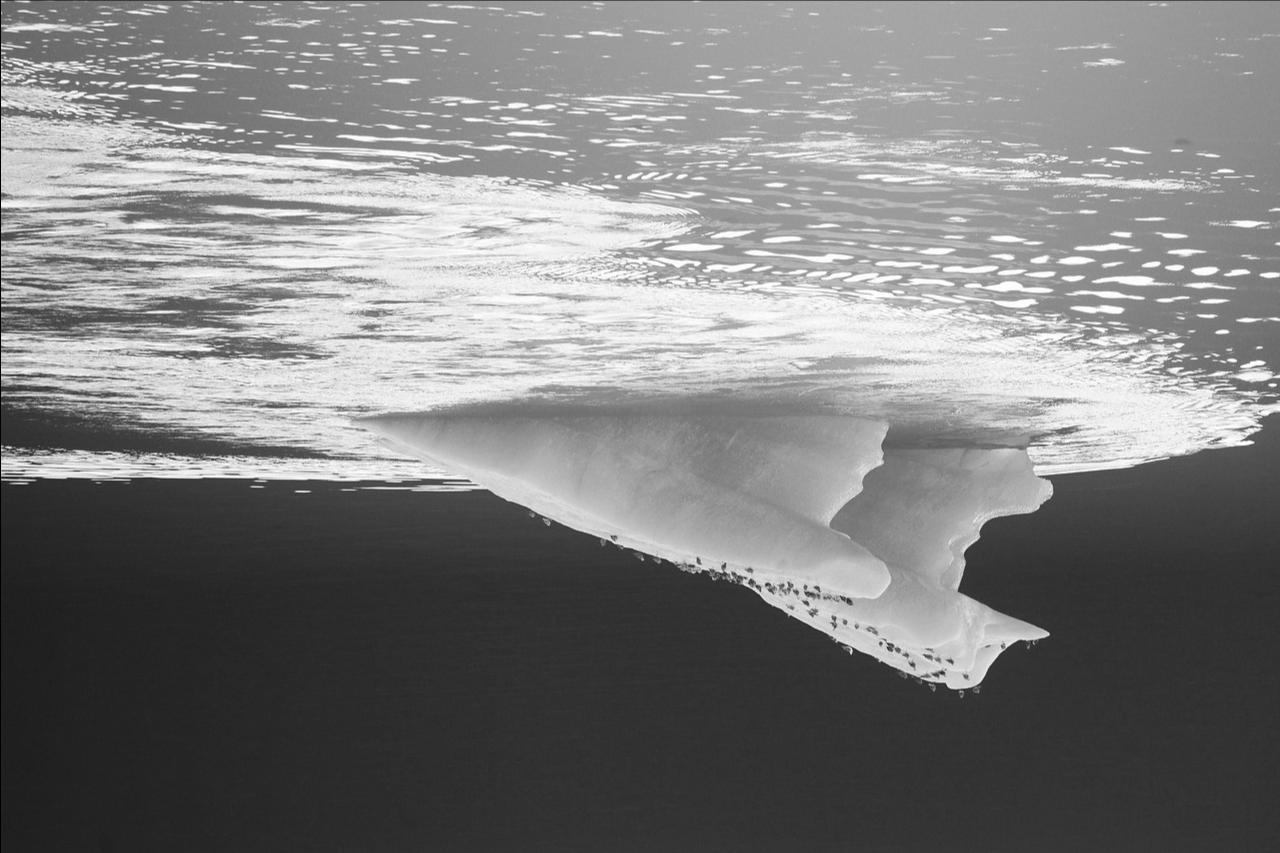Non_Gorille: (103, 101, 1160, 828)
